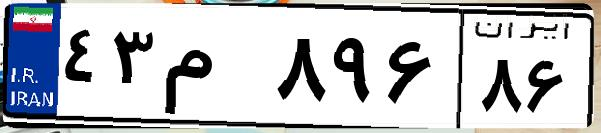3: (110, 28, 158, 98)
4: (57, 26, 110, 100)
6: (385, 28, 445, 110), (525, 38, 570, 115)
8: (270, 28, 330, 110), (475, 38, 525, 113)
9: (330, 28, 385, 110)
م: (158, 20, 270, 120)
